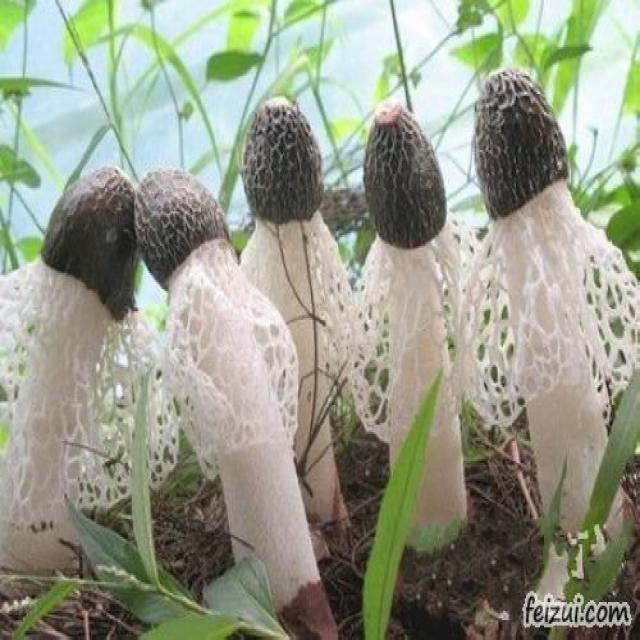Dictyophora indusiate: (141, 163, 326, 615), (462, 73, 640, 540), (1, 166, 175, 574), (350, 103, 493, 532), (240, 99, 375, 533)
